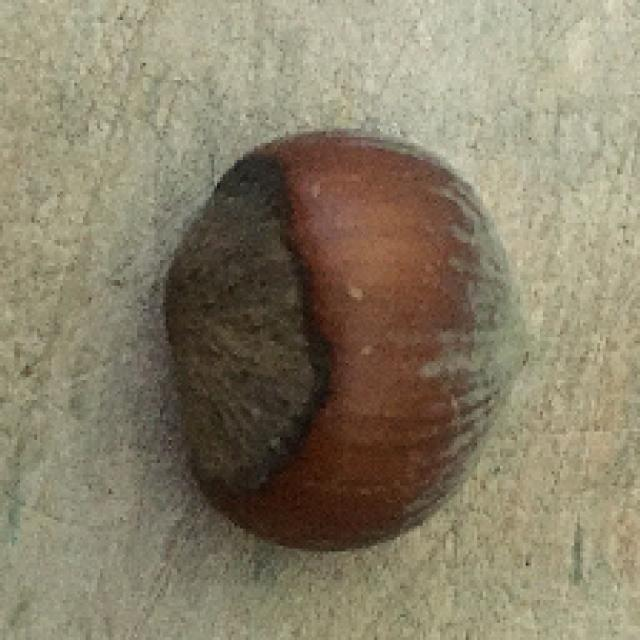qualityHazelnut: (159, 133, 525, 549)
